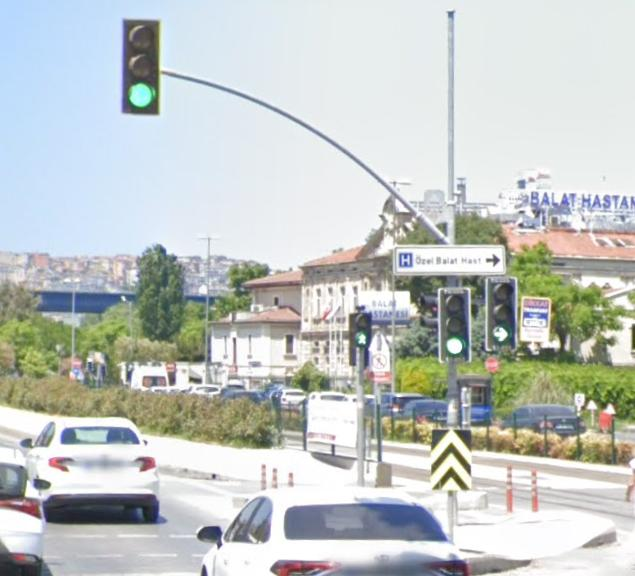greenlight: (124, 18, 159, 111), (439, 289, 470, 357), (490, 278, 514, 347)
